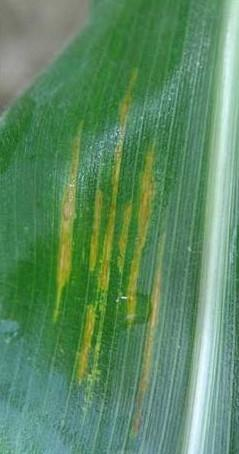Corn_Blight: (58, 66, 172, 448)
